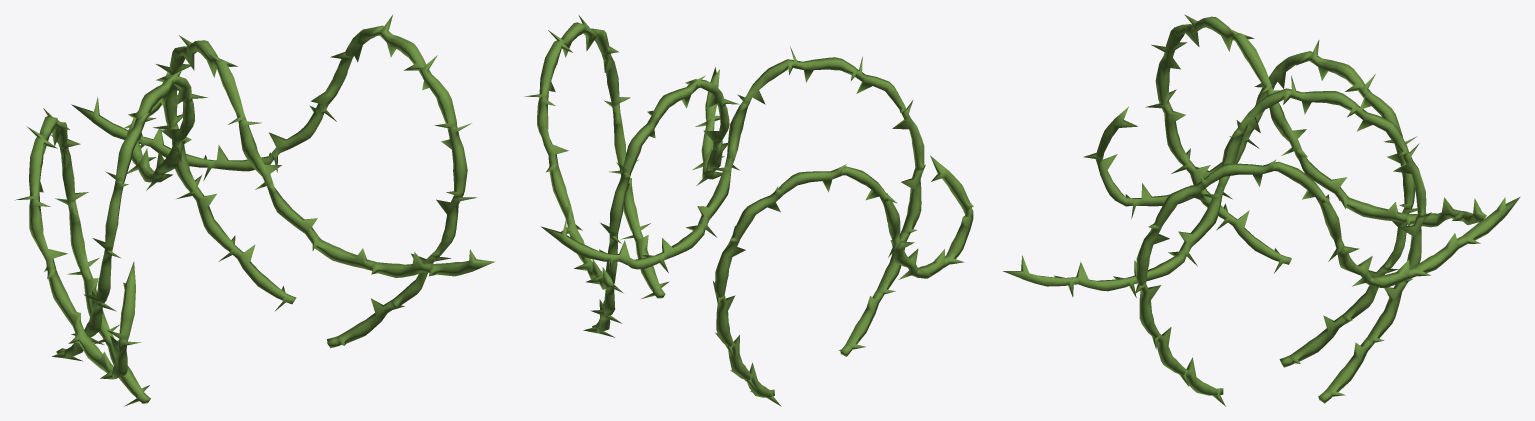
The model's file is thornBush.fbx.
The picture shows the model from 3 angles, left to right: view 1: azimuth 30°, elevation 25°; view 2: azimuth 150°, elevation 25°; view 3: azimuth 270°, elevation 25°; orthographic projection. The views are drawn at different scales.
Parts seen in each view (by area): view 1: thornBush; view 2: thornBush; view 3: thornBush.
Part boxes in pixels (<box>): thornBush: <box>15,15,495,406</box>; thornBush: <box>524,15,973,406</box>; thornBush: <box>1003,14,1520,406</box>.
Size of the model in its own units: 20.94 by 18.25 by 24.81.
